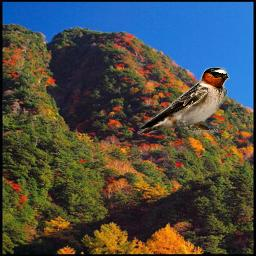Swallow: (138, 66, 230, 135)
